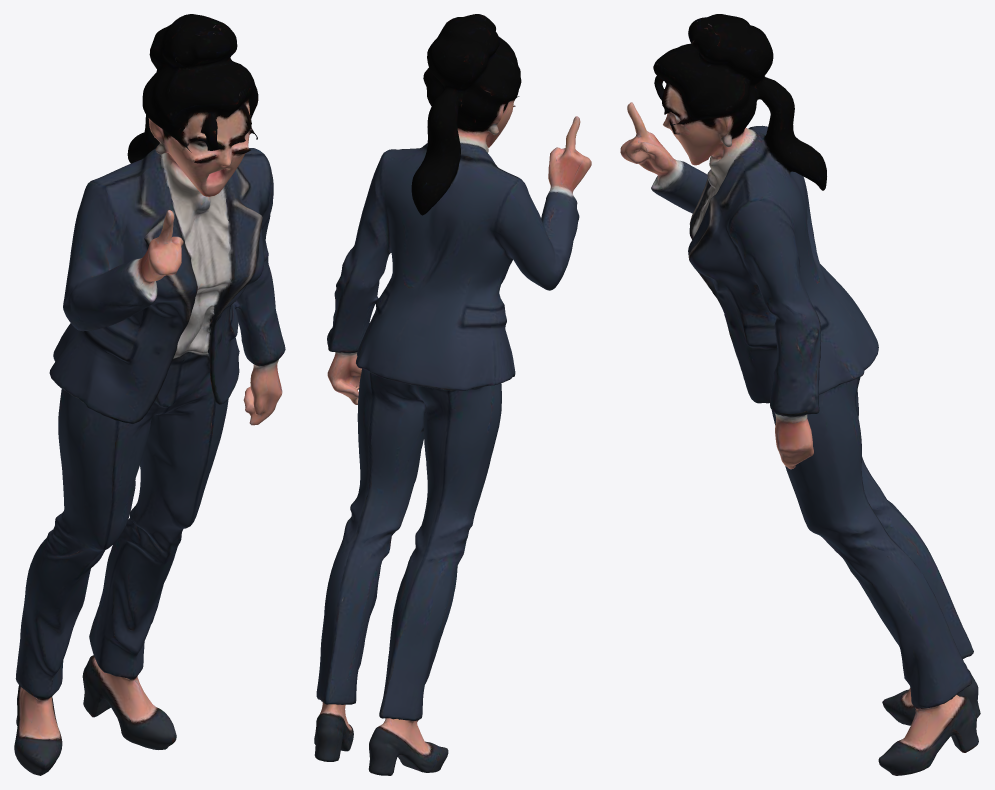
File: neutral_librarian.glb
The picture shows the model from 3 angles, left to right: view 1: azimuth 30°, elevation 25°; view 2: azimuth 150°, elevation 25°; view 3: azimuth 270°, elevation 25°; orthographic projection. The views are drawn at different scales.
Bounding box in the file's own units: 0.2923 × 0.9235 × 0.4134.
1 material, 1 textured.
